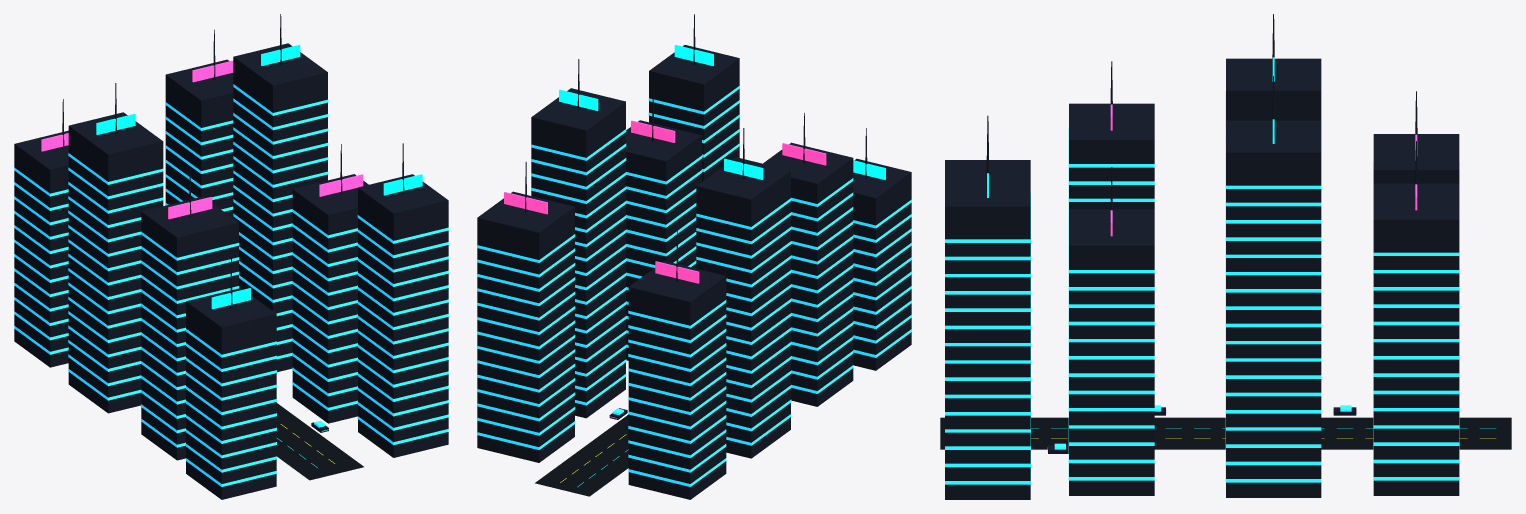
File: sector-1.glb
3 views of the same model, side by side, from view 1: azimuth 30°, elevation 25°; view 2: azimuth 150°, elevation 25°; view 3: azimuth 270°, elevation 25° (orthographic). The views are drawn at different scales.
Visible parts, largest first — view 1: NeoMetropolis; view 2: NeoMetropolis; view 3: NeoMetropolis.
Part boxes in pixels (box(x1,y1,x2,y2)): NeoMetropolis: box(14, 14, 448, 499); NeoMetropolis: box(477, 14, 911, 499); NeoMetropolis: box(940, 14, 1511, 499).
Bounding box in the file's own units: 66.1 × 94 × 120.
